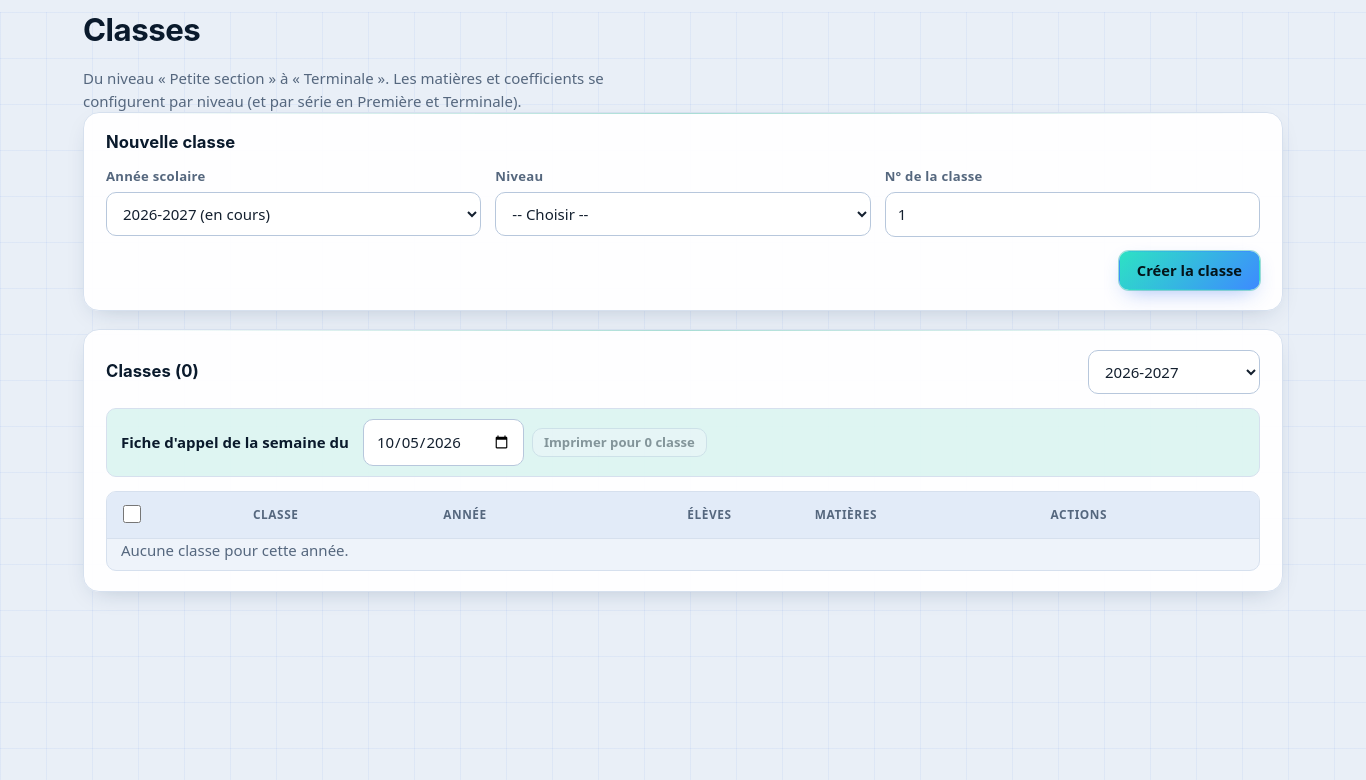
Scenario: Création d’une classe › niveau saisi à la main
This screenshot has width=1366, height=780.
Select "Autre (saisir)…" in the dropdown labelled "Niveau" at (683, 214), box [495,192,871,236]
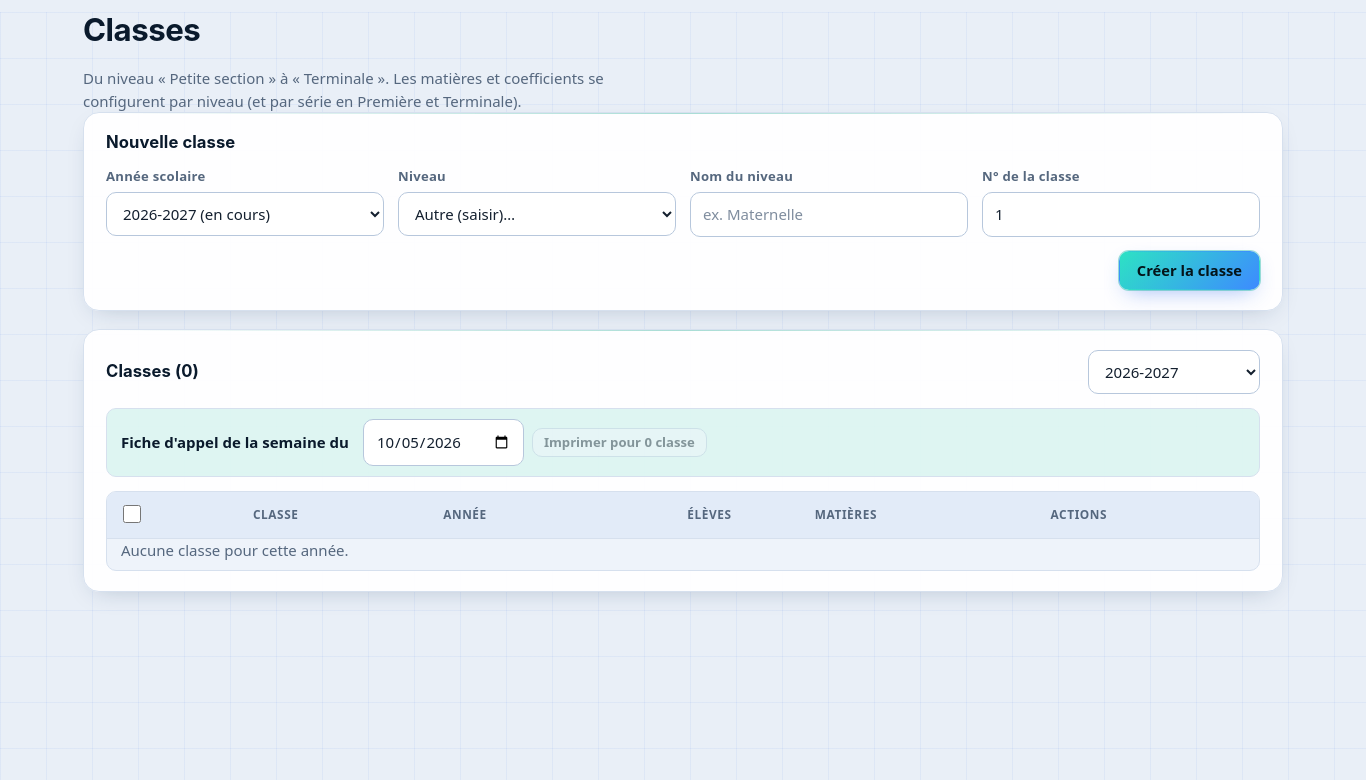
Type "Maternelle" into the field labelled "Nom du niveau" at (829, 214), box [690,192,968,237]
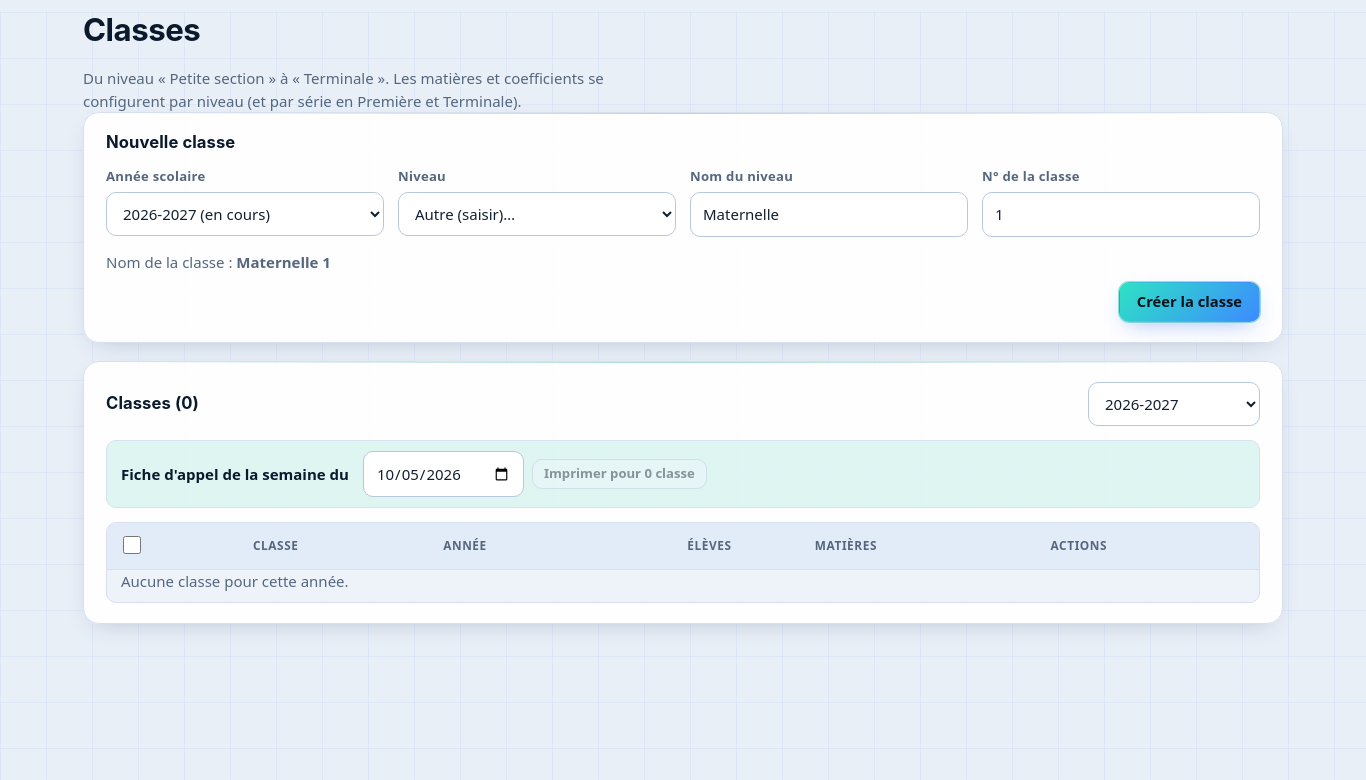
Check: the text "Maternelle 1" is shown, box [236,252,331,272]
